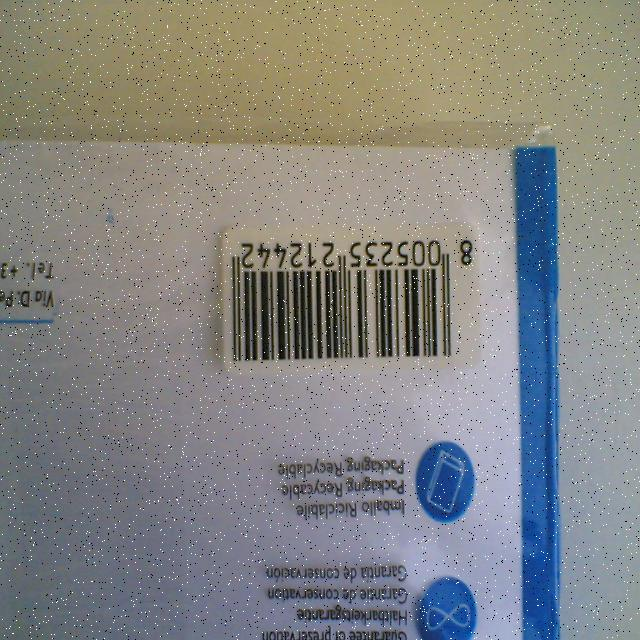barcode: (222, 223, 480, 372)
